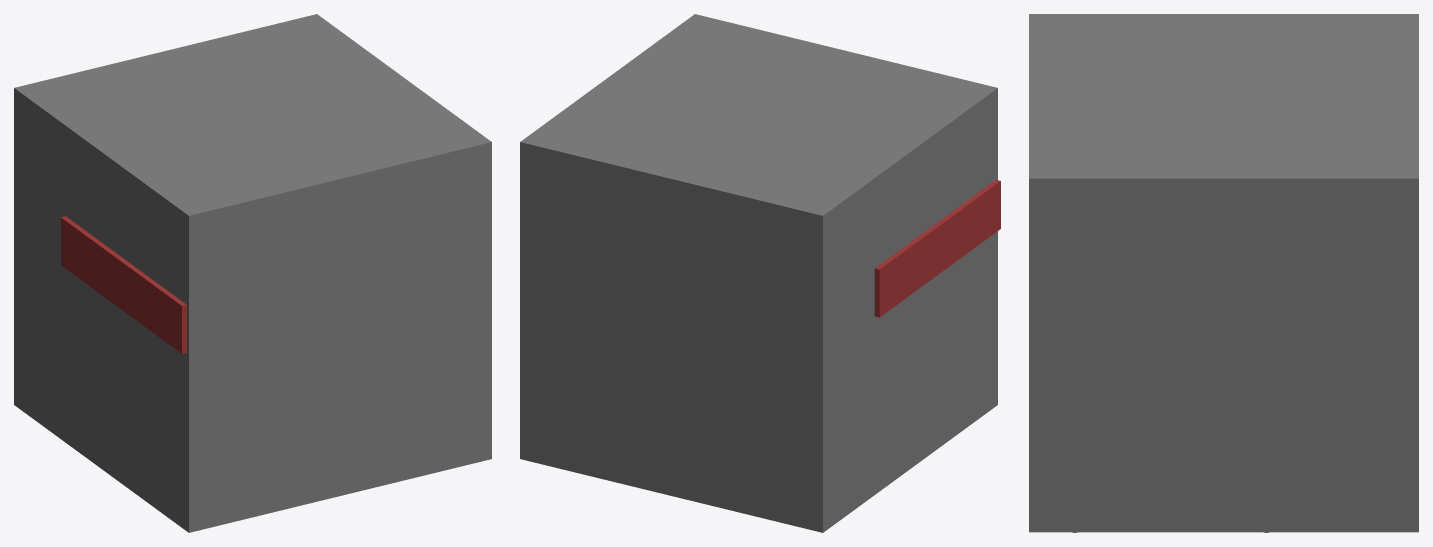
The model's file is desk_1.fbx.
The picture shows the model from 3 angles, left to right: view 1: azimuth 30°, elevation 25°; view 2: azimuth 150°, elevation 25°; view 3: azimuth 270°, elevation 25°; orthographic projection. The views are drawn at different scales.
Visible parts, largest first — view 1: refrence1, pointLight2; view 2: refrence1, pointLight2; view 3: refrence1.
Part boxes in pixels (x1=…): refrence1: x1=14, y1=14, x2=491, y2=532; pointLight2: x1=61, y1=216, x2=186, y2=353; refrence1: x1=520, y1=14, x2=997, y2=532; pointLight2: x1=874, y1=180, x2=1000, y2=317; refrence1: x1=1029, y1=14, x2=1418, y2=532.
Size of the model in its own units: 76.21 by 77.5 by 75.
